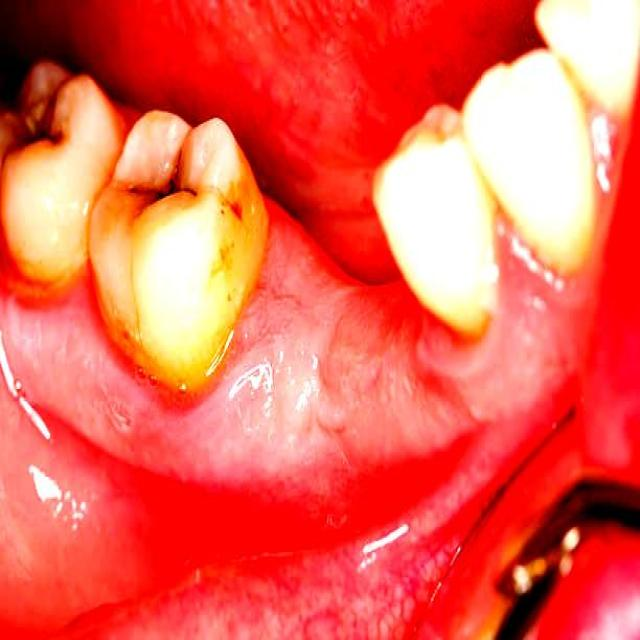caries: (119, 130, 208, 246), (0, 81, 61, 170)
